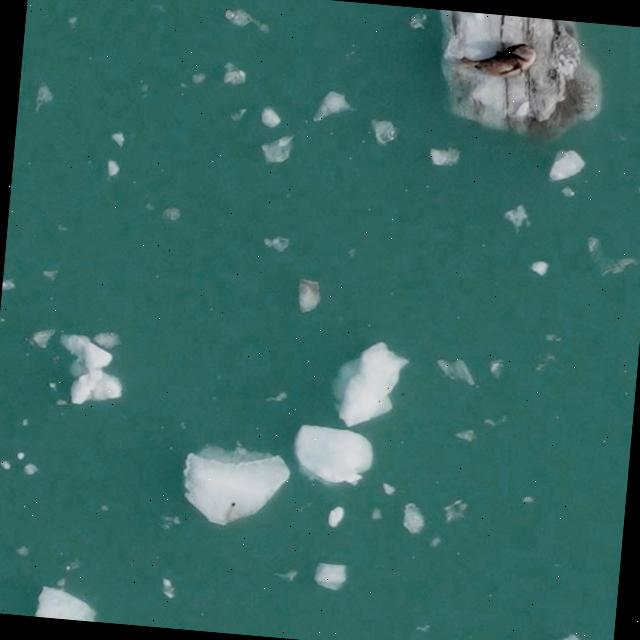seal: (457, 39, 534, 77)
